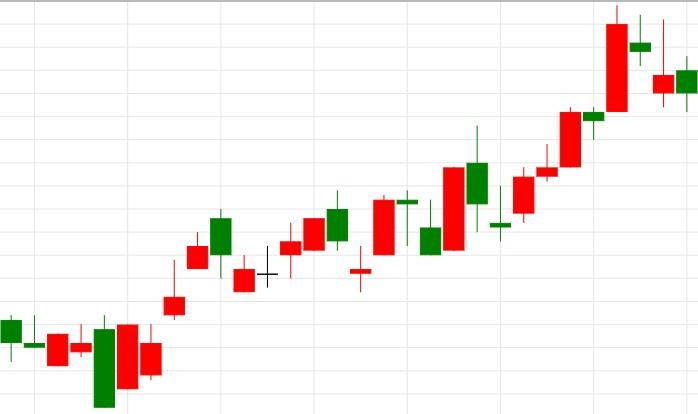inverse_hammer_rise: (605, 5, 675, 113)
